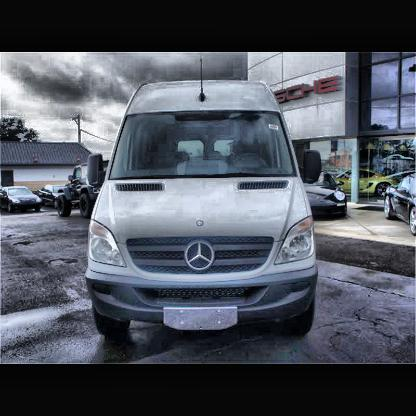Mercedes-Benz Sprinter Van 2012: (88, 81, 318, 339)
